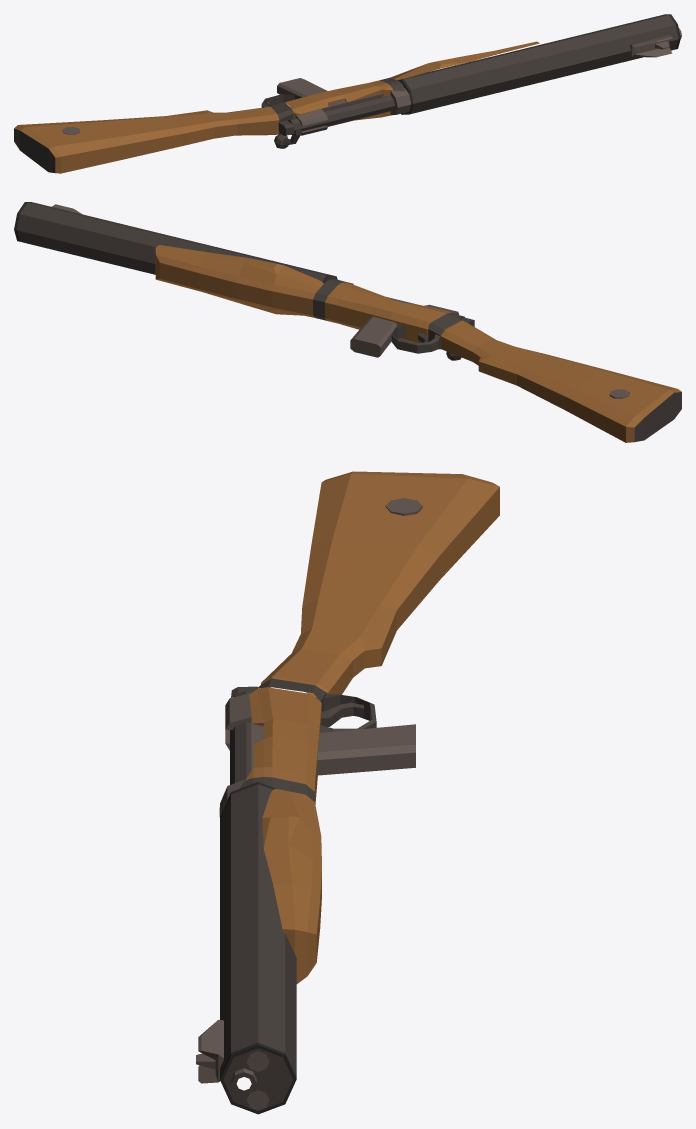
File: Delisle_3D.glb
The picture shows the model from 3 angles, top to bottom: view 1: azimuth 30°, elevation 25°; view 2: azimuth 150°, elevation 25°; view 3: azimuth 270°, elevation 25°; orthographic projection. The views are drawn at different scales.
Visible parts, largest first — view 1: DeLisleGun_LowPoly; view 2: DeLisleGun_LowPoly; view 3: DeLisleGun_LowPoly.
Part boxes in pixels (x1,y1,x2,y2): DeLisleGun_LowPoly: (14, 14, 681, 173); DeLisleGun_LowPoly: (14, 202, 681, 442); DeLisleGun_LowPoly: (196, 471, 499, 1114).
Bounding box in the file's own units: 1 × 0.0734 × 0.218.
1 material, 1 textured.
